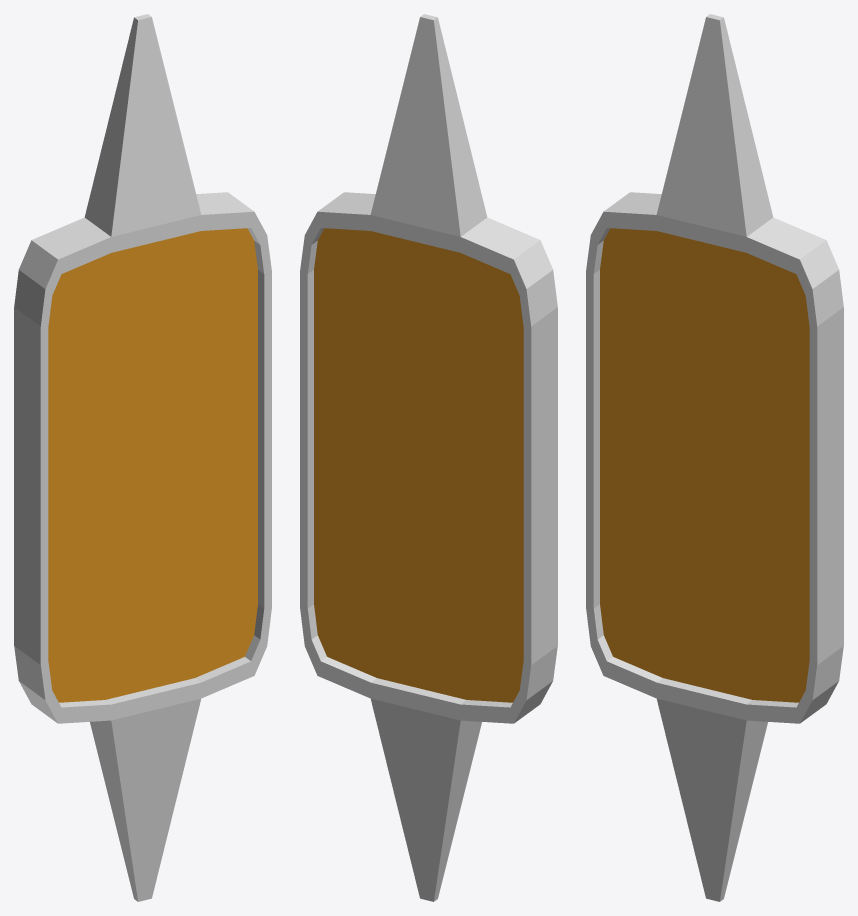
The model's file is sign2.fbx.
The picture shows the model from 3 angles, left to right: view 1: azimuth 30°, elevation 25°; view 2: azimuth 150°, elevation 25°; view 3: azimuth 330°, elevation 25°; orthographic projection.
Visible parts, largest first — view 1: Cube.002; view 2: Cube.002; view 3: Cube.002.
Part boxes in pixels (<box>): Cube.002: <box>14,14,271,901</box>; Cube.002: <box>300,14,557,901</box>; Cube.002: <box>586,14,843,901</box>.
Bounding box in the file's own units: 5 × 18.23 × 1.
